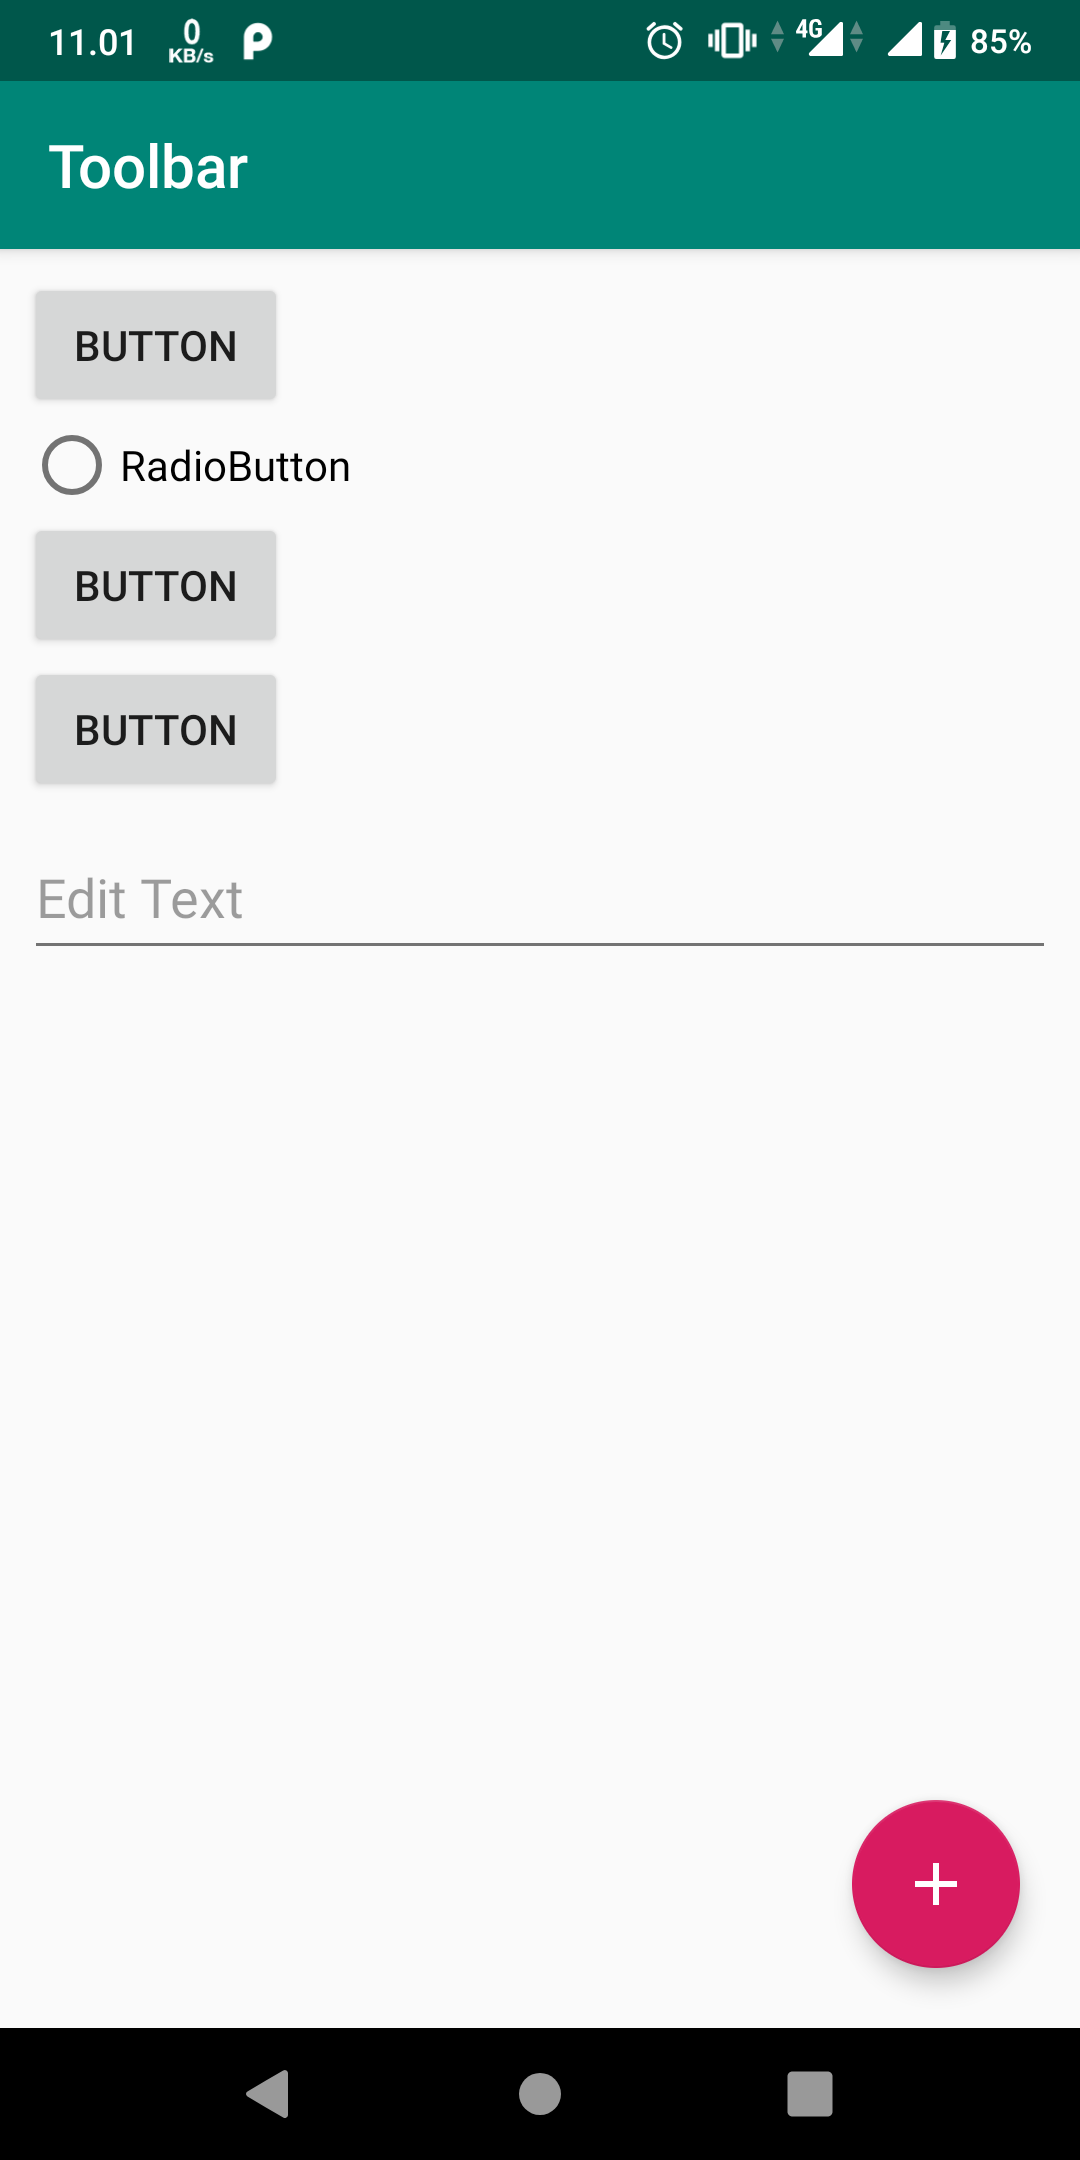button: (28, 664, 282, 802), (25, 522, 291, 652), (28, 280, 287, 412)
editText: (22, 864, 1061, 970)
floatingButton: (854, 1796, 1025, 1970)
radioButton: (32, 422, 364, 508)
toolbar: (6, 80, 1080, 247)
